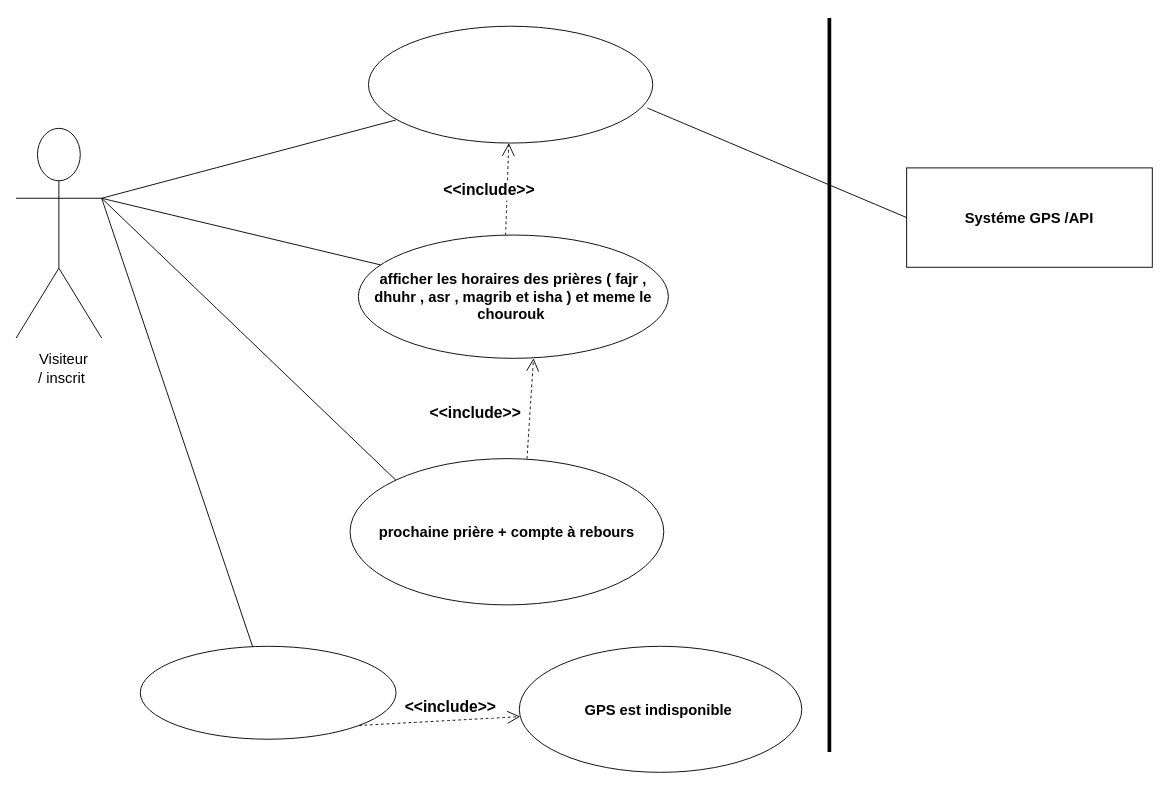
Some shapes in this 1168 by 788 pixel diagram are drawn without their labels. Each missing label, with the centre of its shape:
Détecter la position GPS ( géolocalisation automatique ): (x=510, y=84)
saisir ville manuellemnt: (x=267, y=692)
